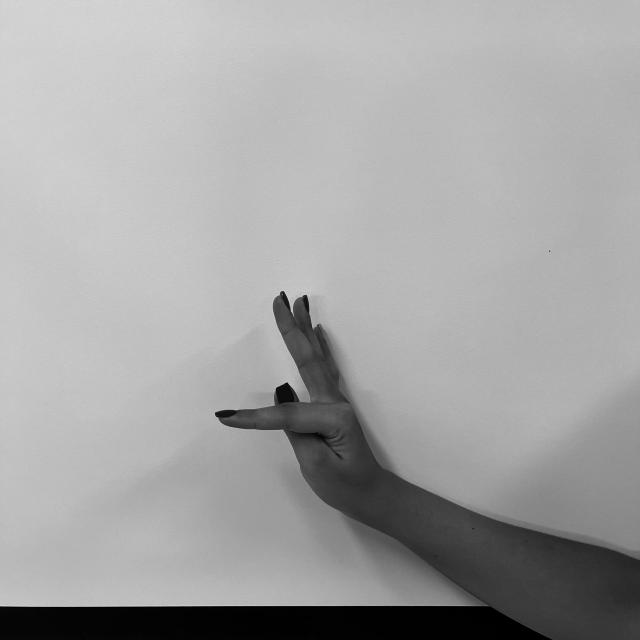Letra T: (210, 284, 381, 516)
